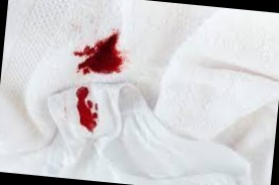blood: (75, 27, 127, 79), (75, 87, 99, 131)
